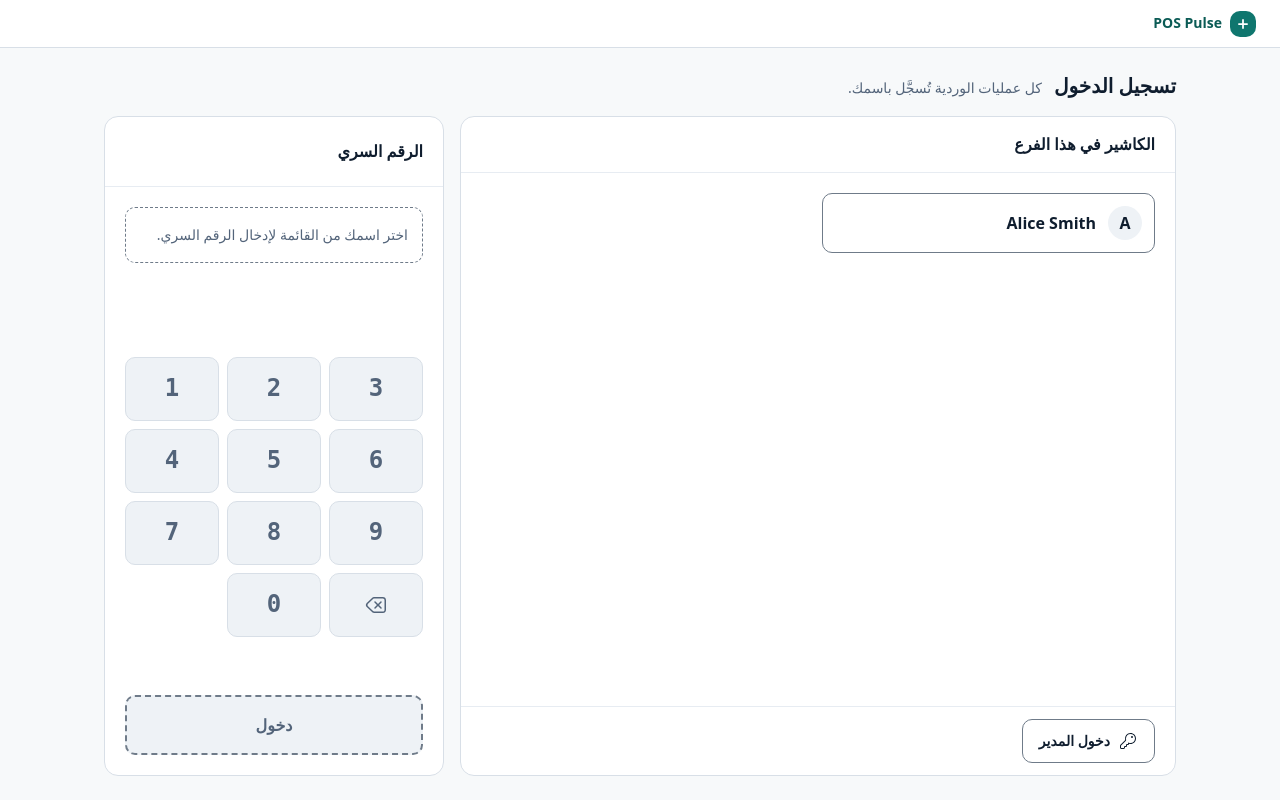
Test: SignInRoute — G-1 recompose copy › a selected cashier shows the UX-12 role noun «الكاشير», not «صيدلي»
Click the button with test id "roster-item-0" at (1125, 223), box [822,193,1155,253]
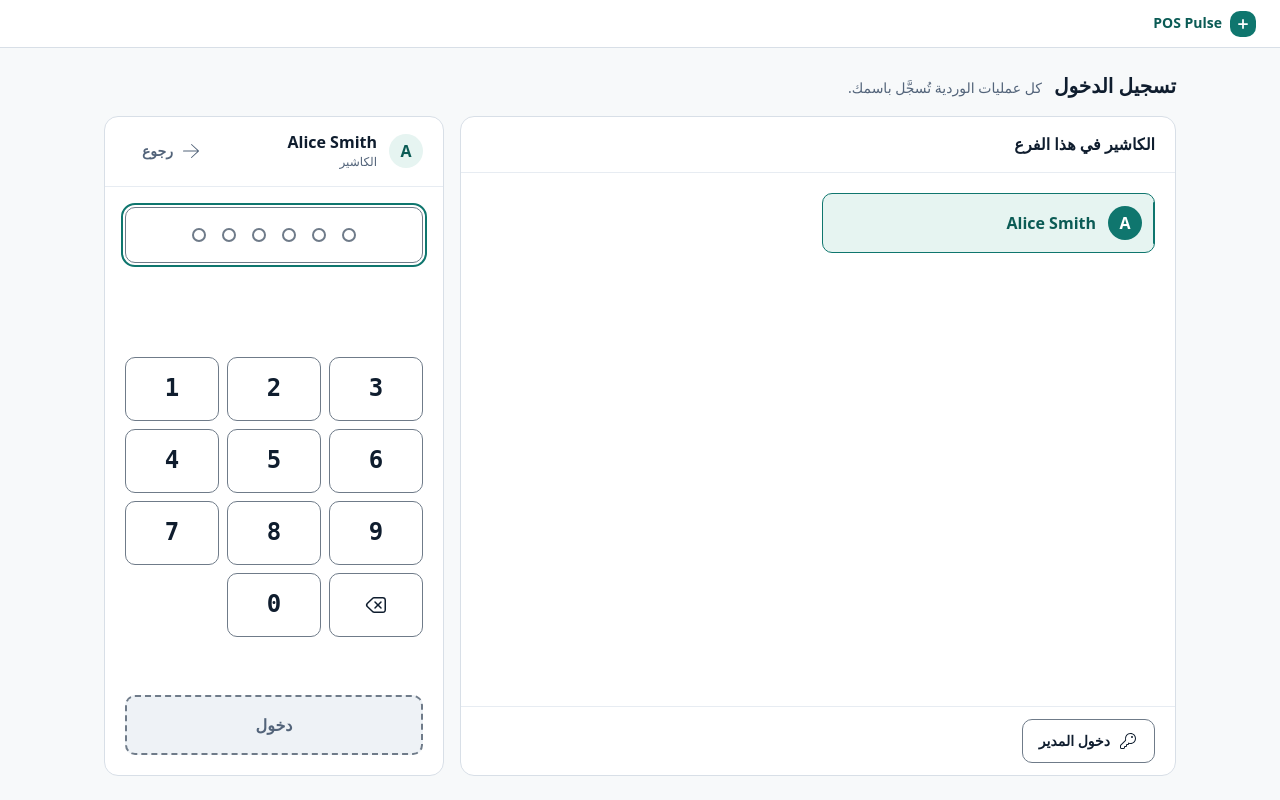
Check: the element with test id "pin-section" is shown, box [105,187,443,775]
Check: the text "الكاشير" is shown, box [339,153,377,170]
